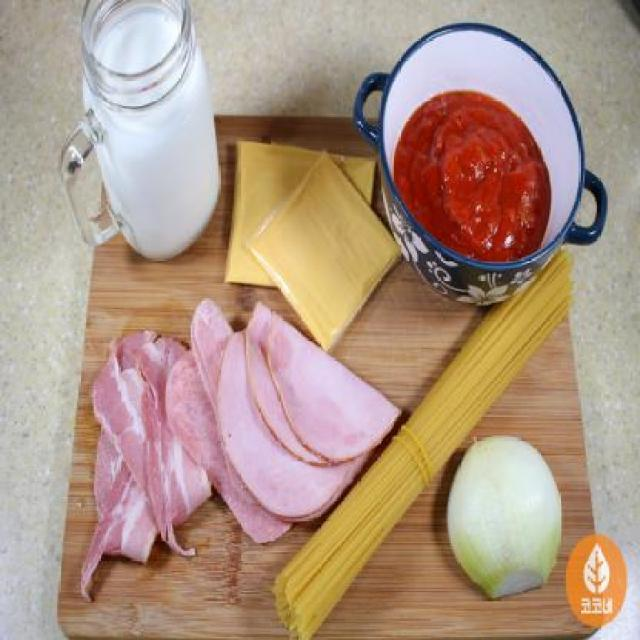Cheese: (226, 134, 400, 341)
Ham: (78, 312, 388, 533)
Milk carton/jug: (72, 6, 226, 262)
Onion: (446, 434, 562, 603)
